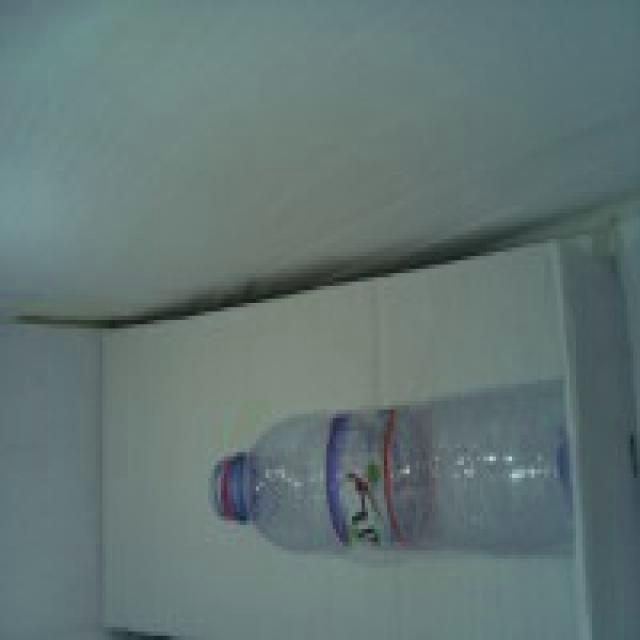bottle: (209, 378, 574, 558)
